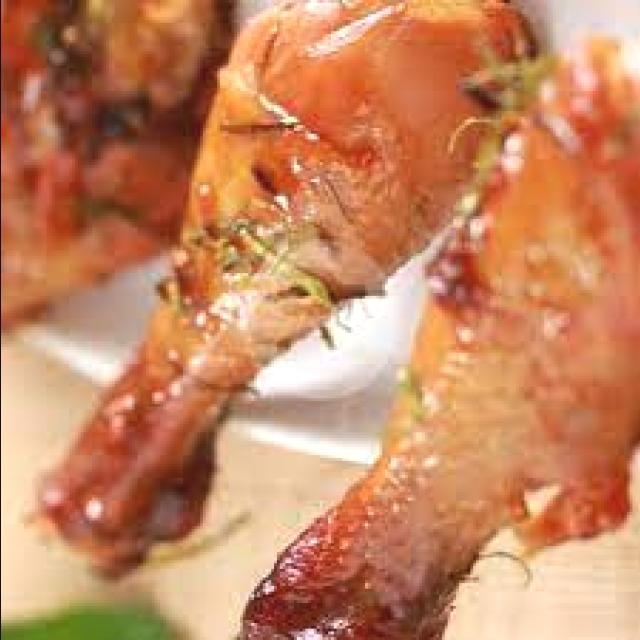ayam goreng: (23, 0, 558, 583), (239, 37, 640, 640)
